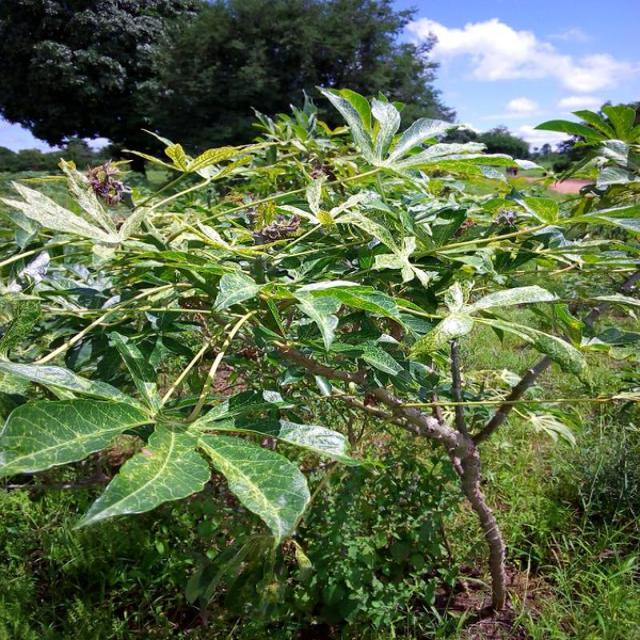cassava leaf: (72, 422, 212, 532), (198, 430, 312, 548), (1, 395, 153, 479)
